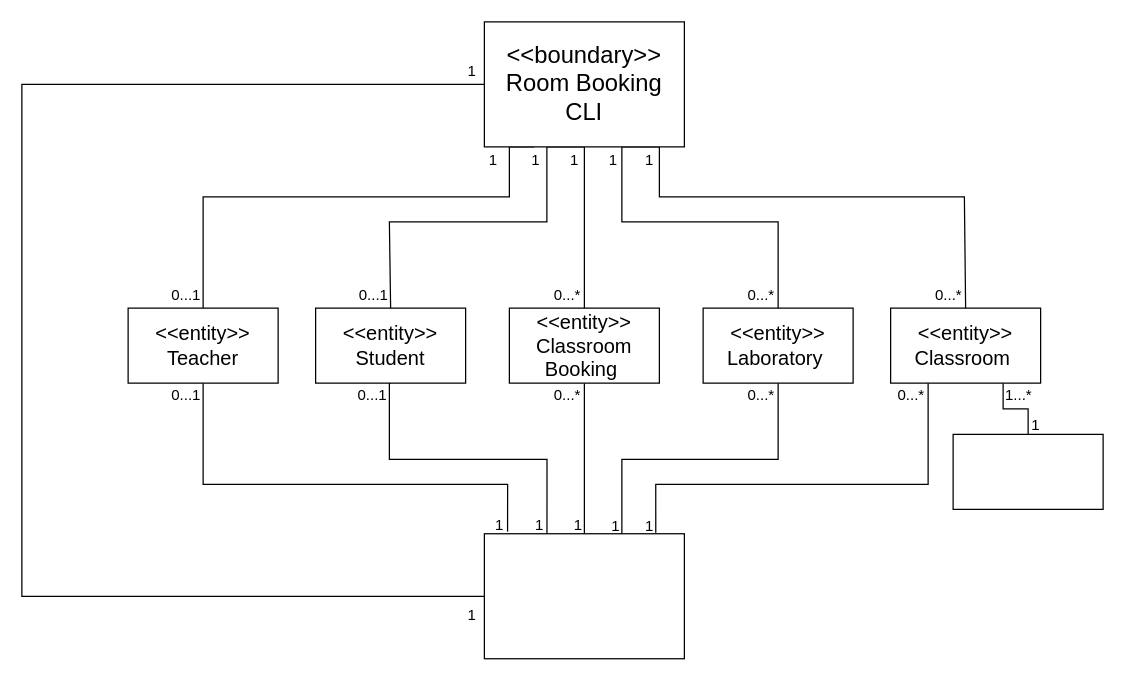
This 1125x681 diagram has some shape labels left out. The centre of each missing label's shape, as x and y in pixels:
"<<control>> Manager" belongs at point (583, 595).
"<<entity>> Building" belongs at point (1027, 471).
